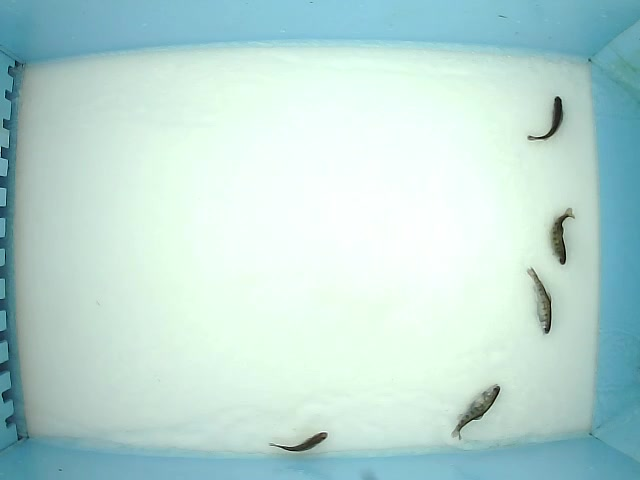fish: (450, 384, 500, 441), (526, 267, 555, 336), (526, 95, 564, 143), (548, 206, 576, 267), (267, 431, 329, 454)
